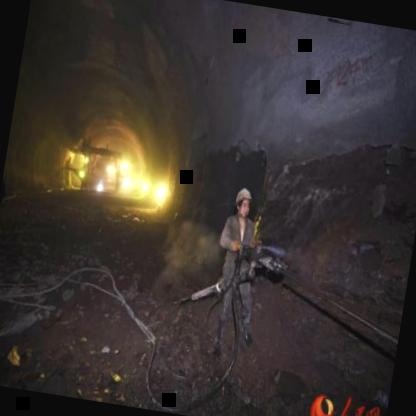helmet: (231, 186, 254, 220)
